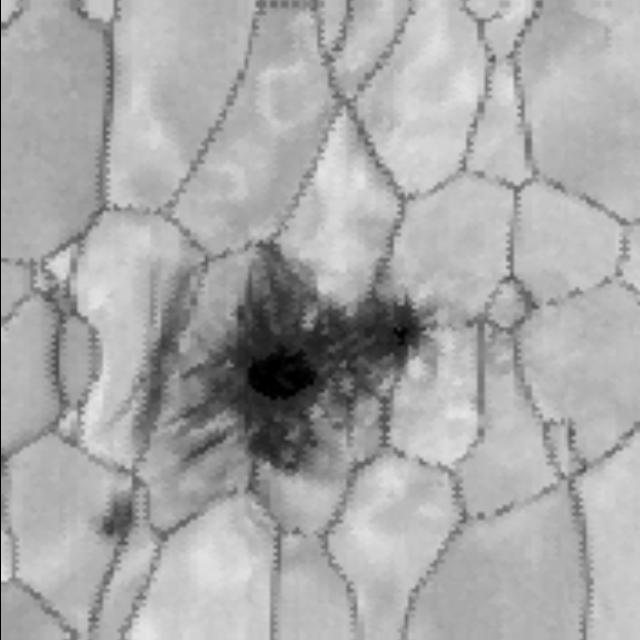good_void: (164, 233, 441, 495), (106, 243, 208, 452), (89, 477, 142, 551), (477, 43, 503, 73), (458, 307, 480, 339)
